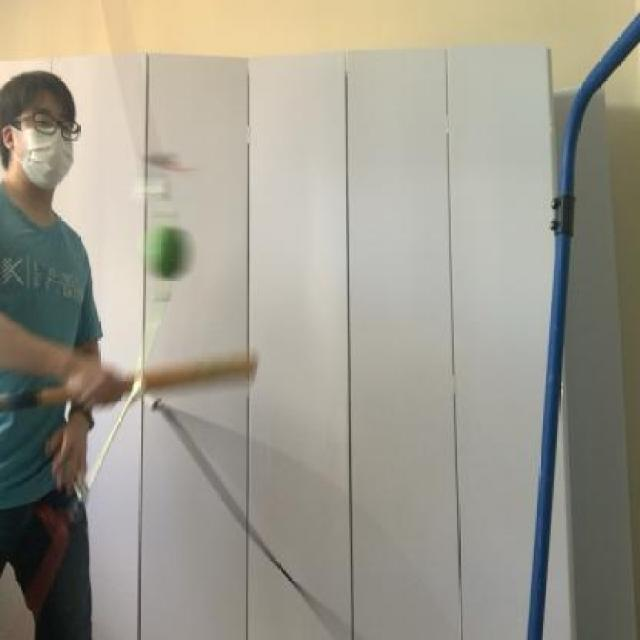baseball: (143, 223, 200, 285)
